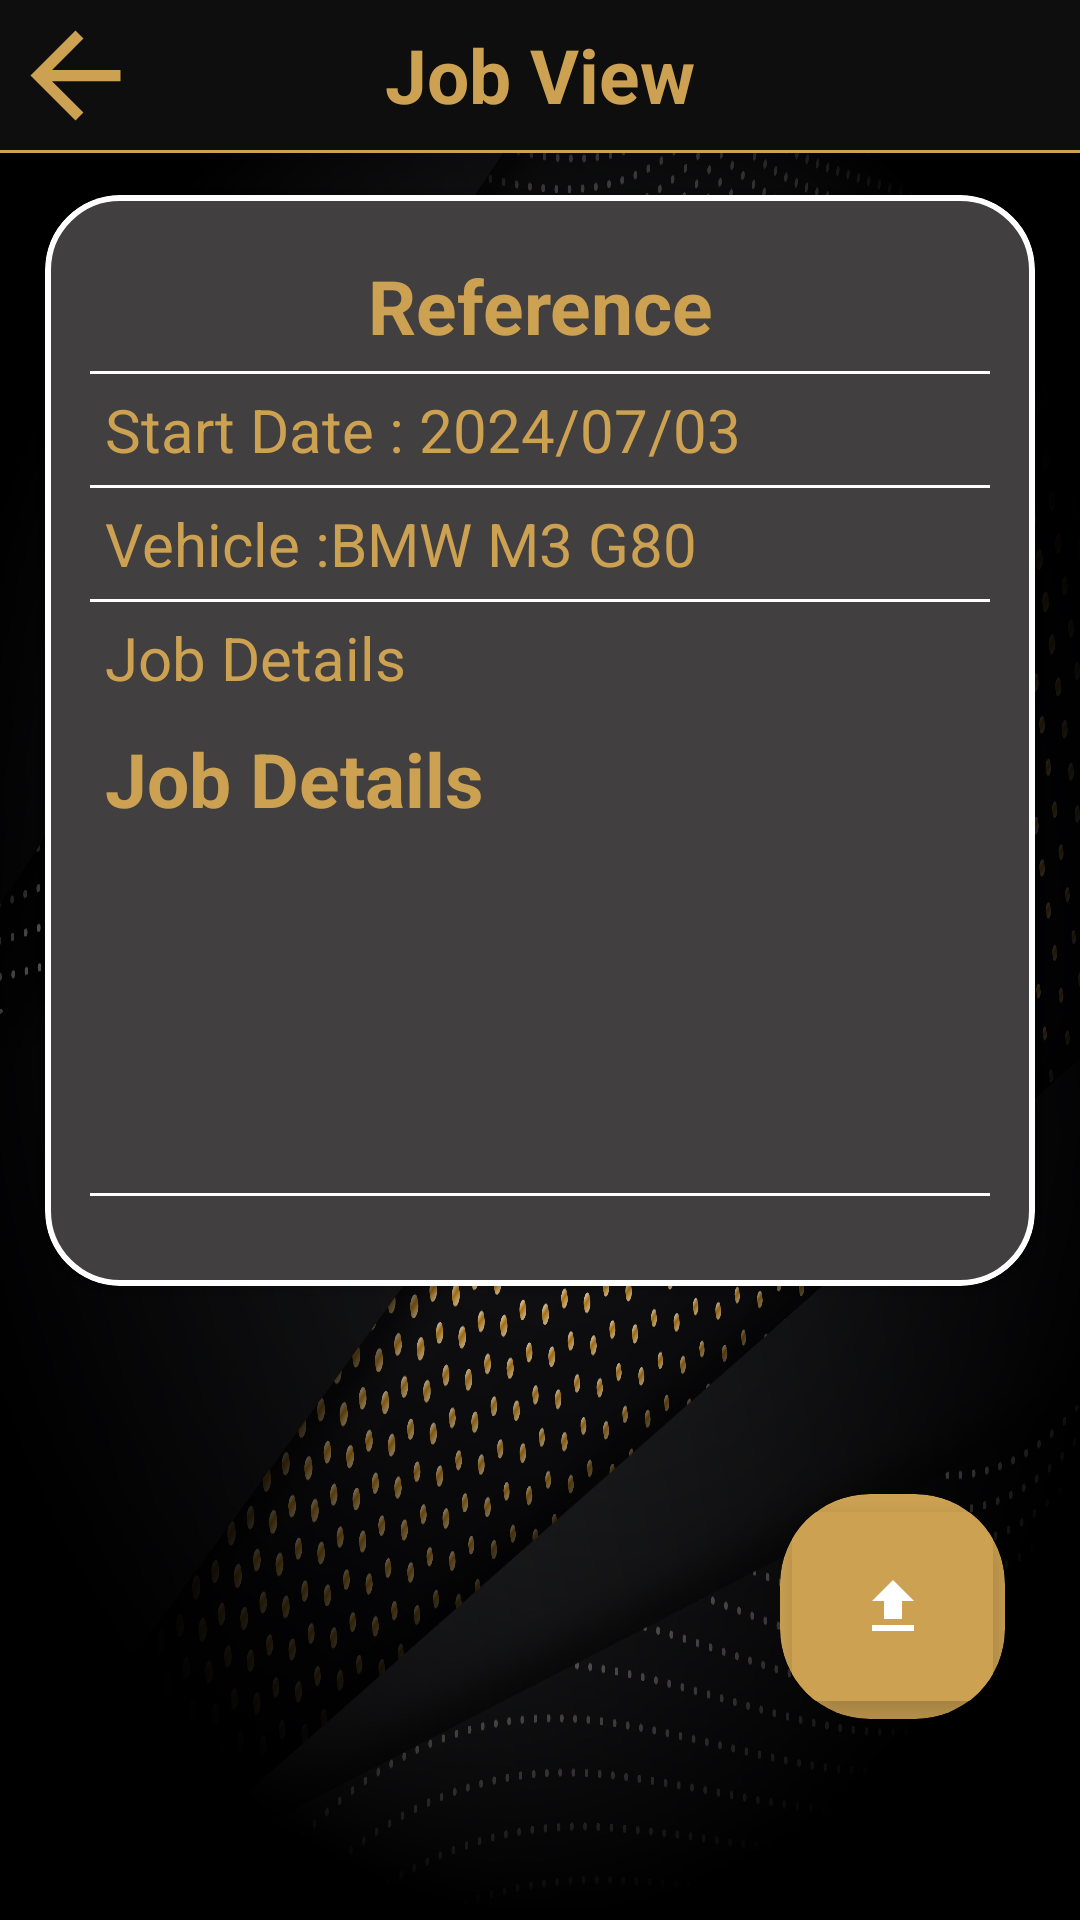

Named icons in this screenshot (1080w x 1920h) and their centers, [x,y]:
arrow back: [75,75]
file upload: [892,1606]
